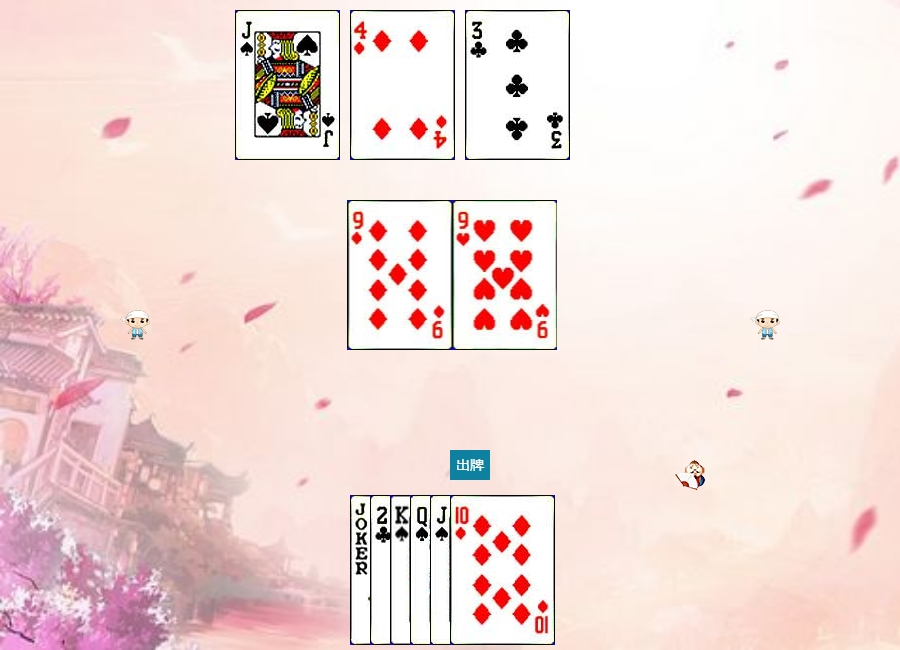10~1: (450, 495, 555, 645)
11~4: (235, 10, 340, 160), (430, 495, 535, 645)
12~4: (410, 495, 515, 645)
13~4: (390, 495, 495, 645)
15~2: (370, 495, 475, 645)
17~3: (350, 495, 455, 645)
3~2: (465, 10, 570, 160)
4~1: (350, 10, 455, 160)
9~1: (348, 200, 453, 350)
9~3: (453, 200, 558, 350)
